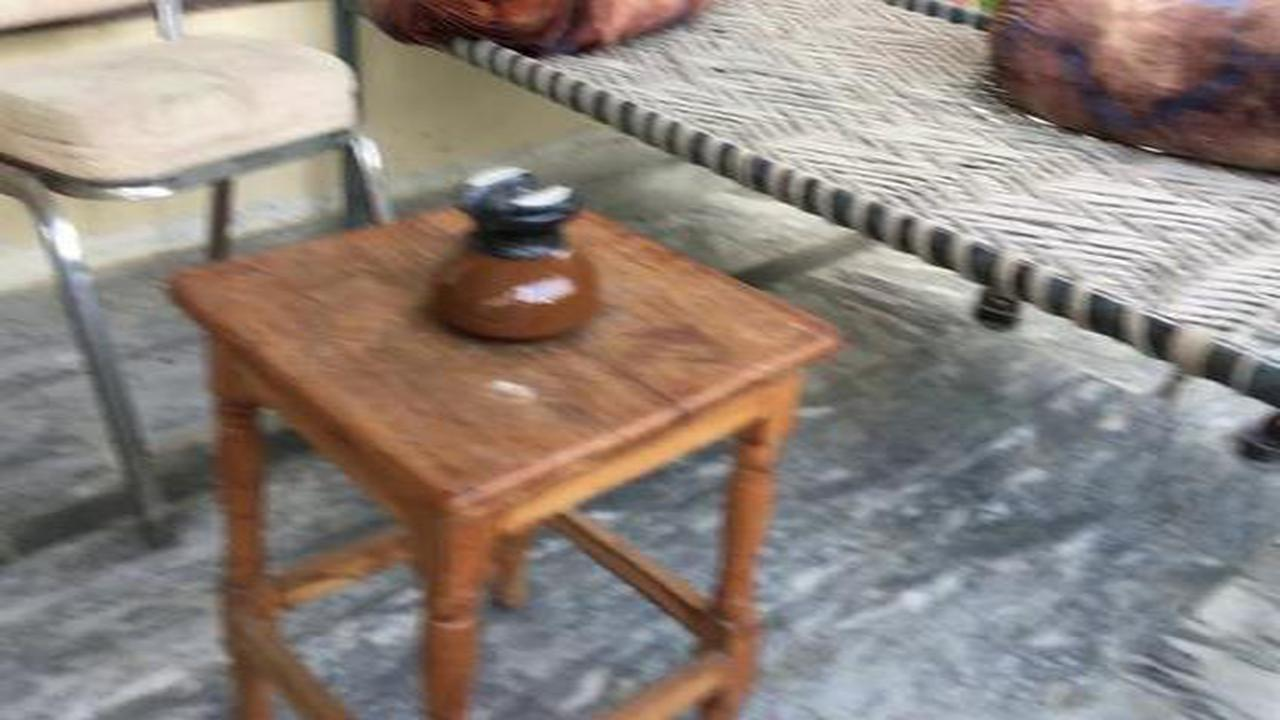insulator_pin: (419, 153, 622, 354)
